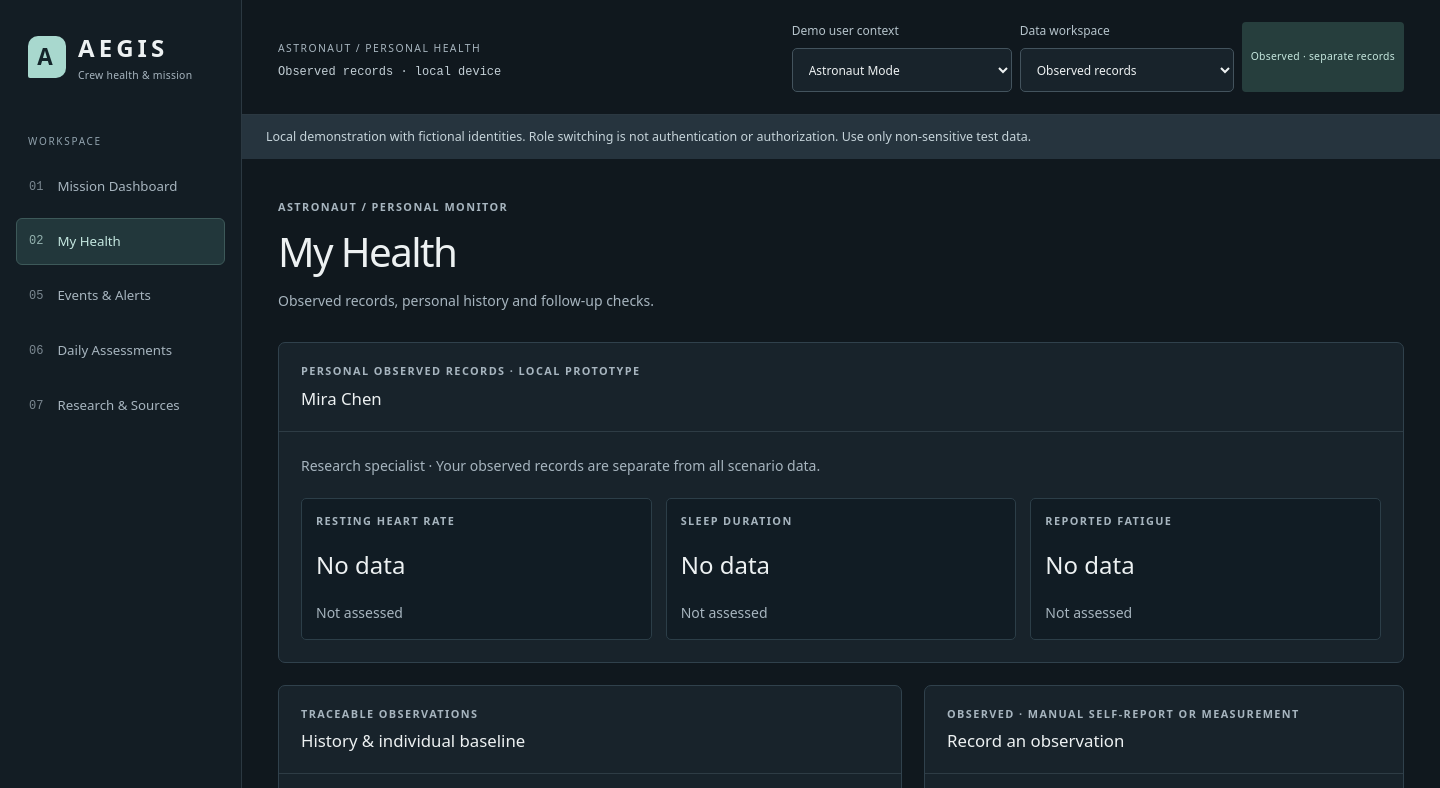
Test: astronaut-first integrated application › keeps real assessments out of simulation previews
Click the button "06 Daily Assessments" at (120, 351), box [16,327,225,375]
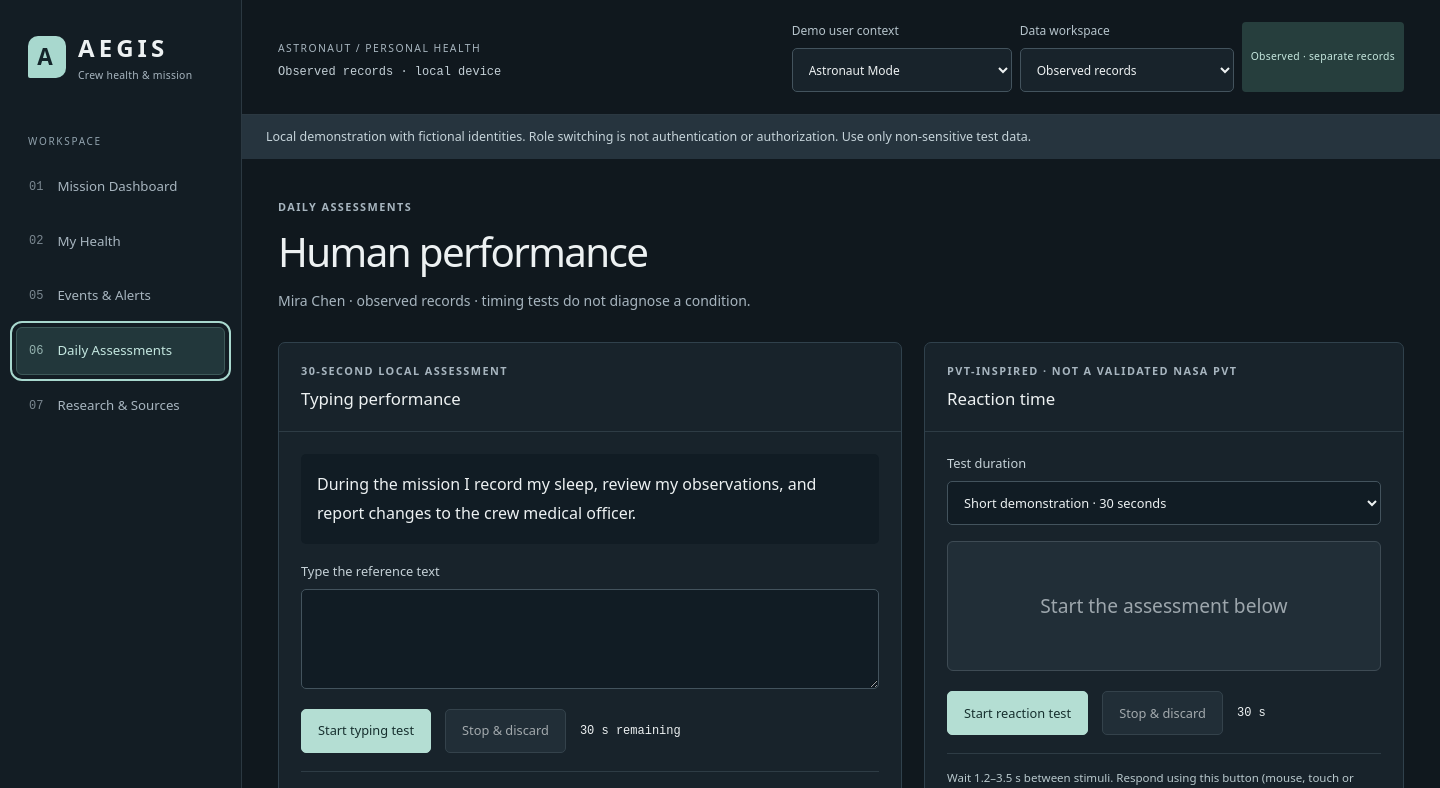
Check: the button "Start typing test" is shown, box [301,709,431,753]
Select "Synthetic mission preview" in the dropdown labelled "Data workspace" at (1127, 70), box [1020,48,1234,92]
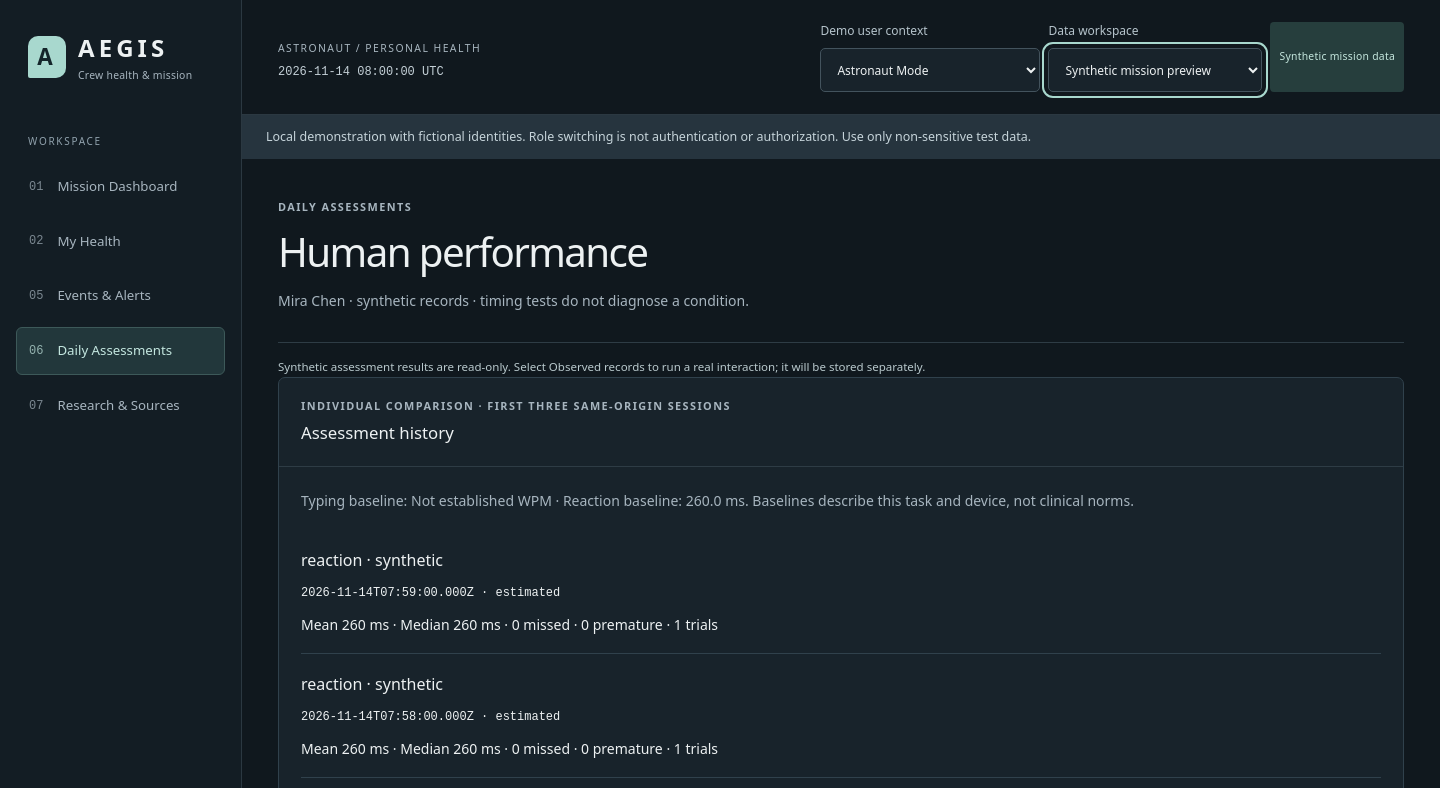
Check: the button "Start typing test" is gone
